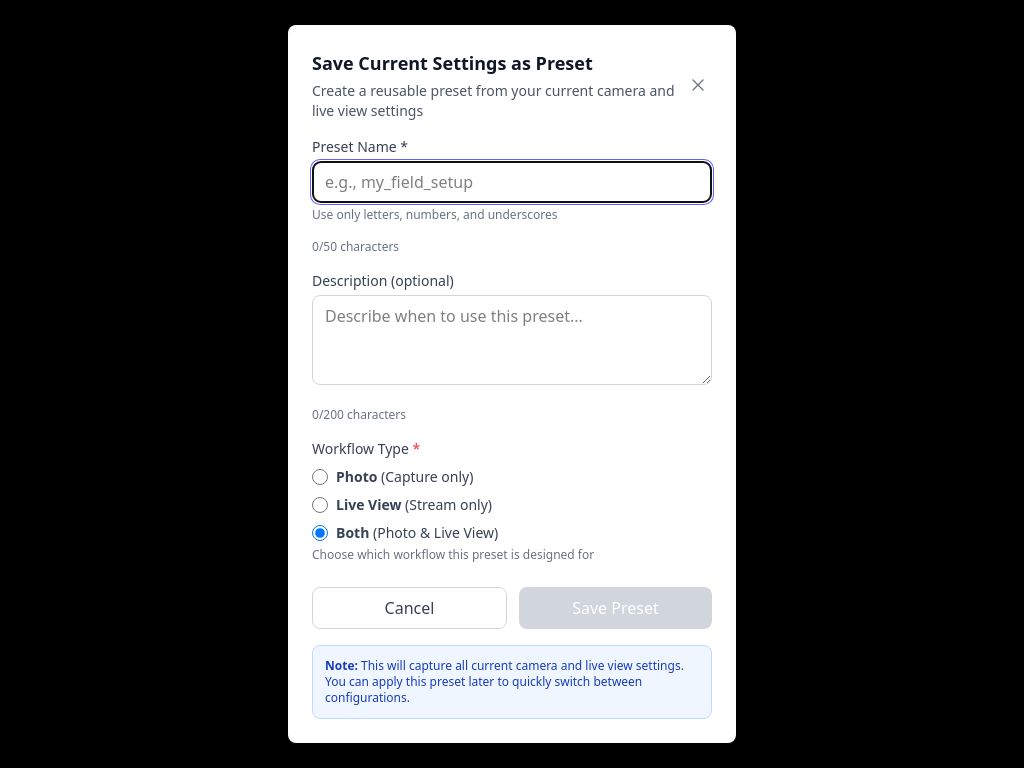
it: SavePresetModal › Save flow › resets form after successful save
In the field with placeholder "e.g., my_field_setup": (512, 182) x1=312 y1=161 x2=712 y2=203, type "test_preset"
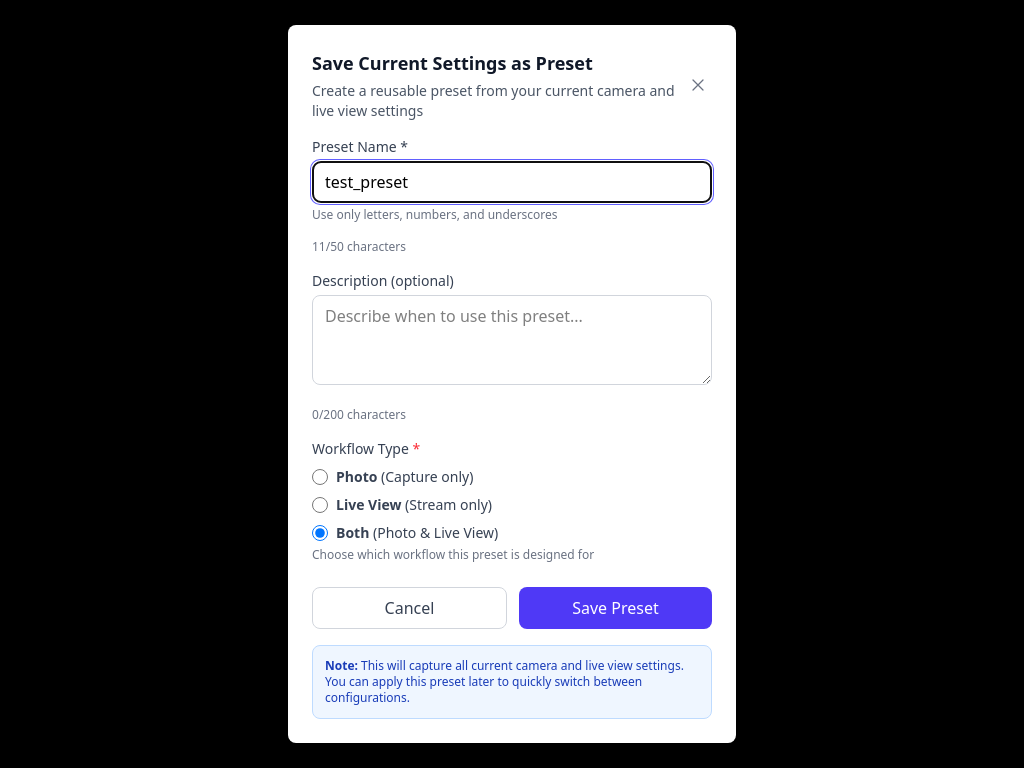
Click the button "Save Preset": (616, 608) x1=519 y1=587 x2=712 y2=629
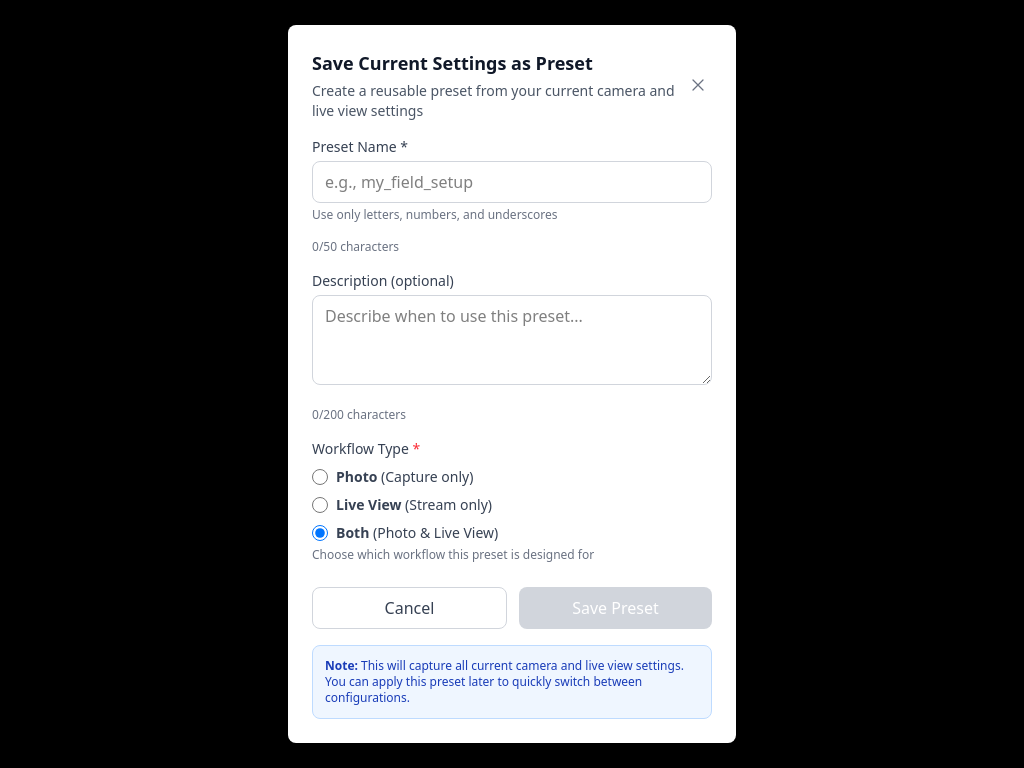
Check: the field with placeholder "e.g., my_field_setup" is empty, box x1=312 y1=161 x2=712 y2=203
